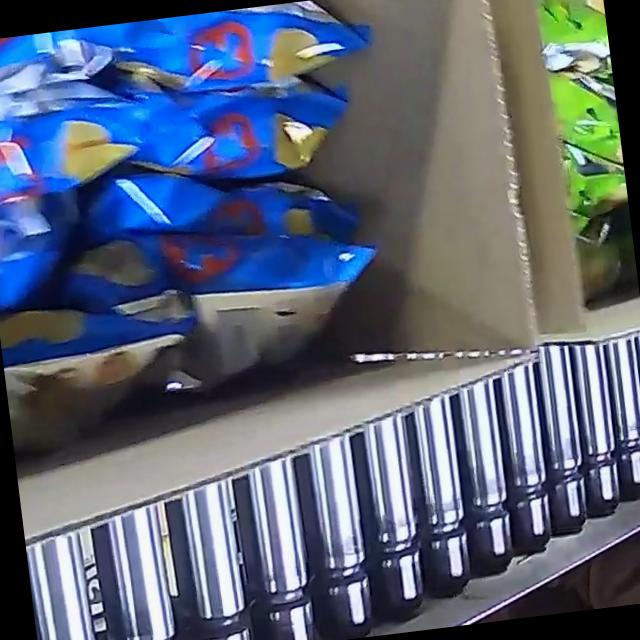paprika: (0, 0, 417, 456)
yogurt: (533, 0, 631, 239)
